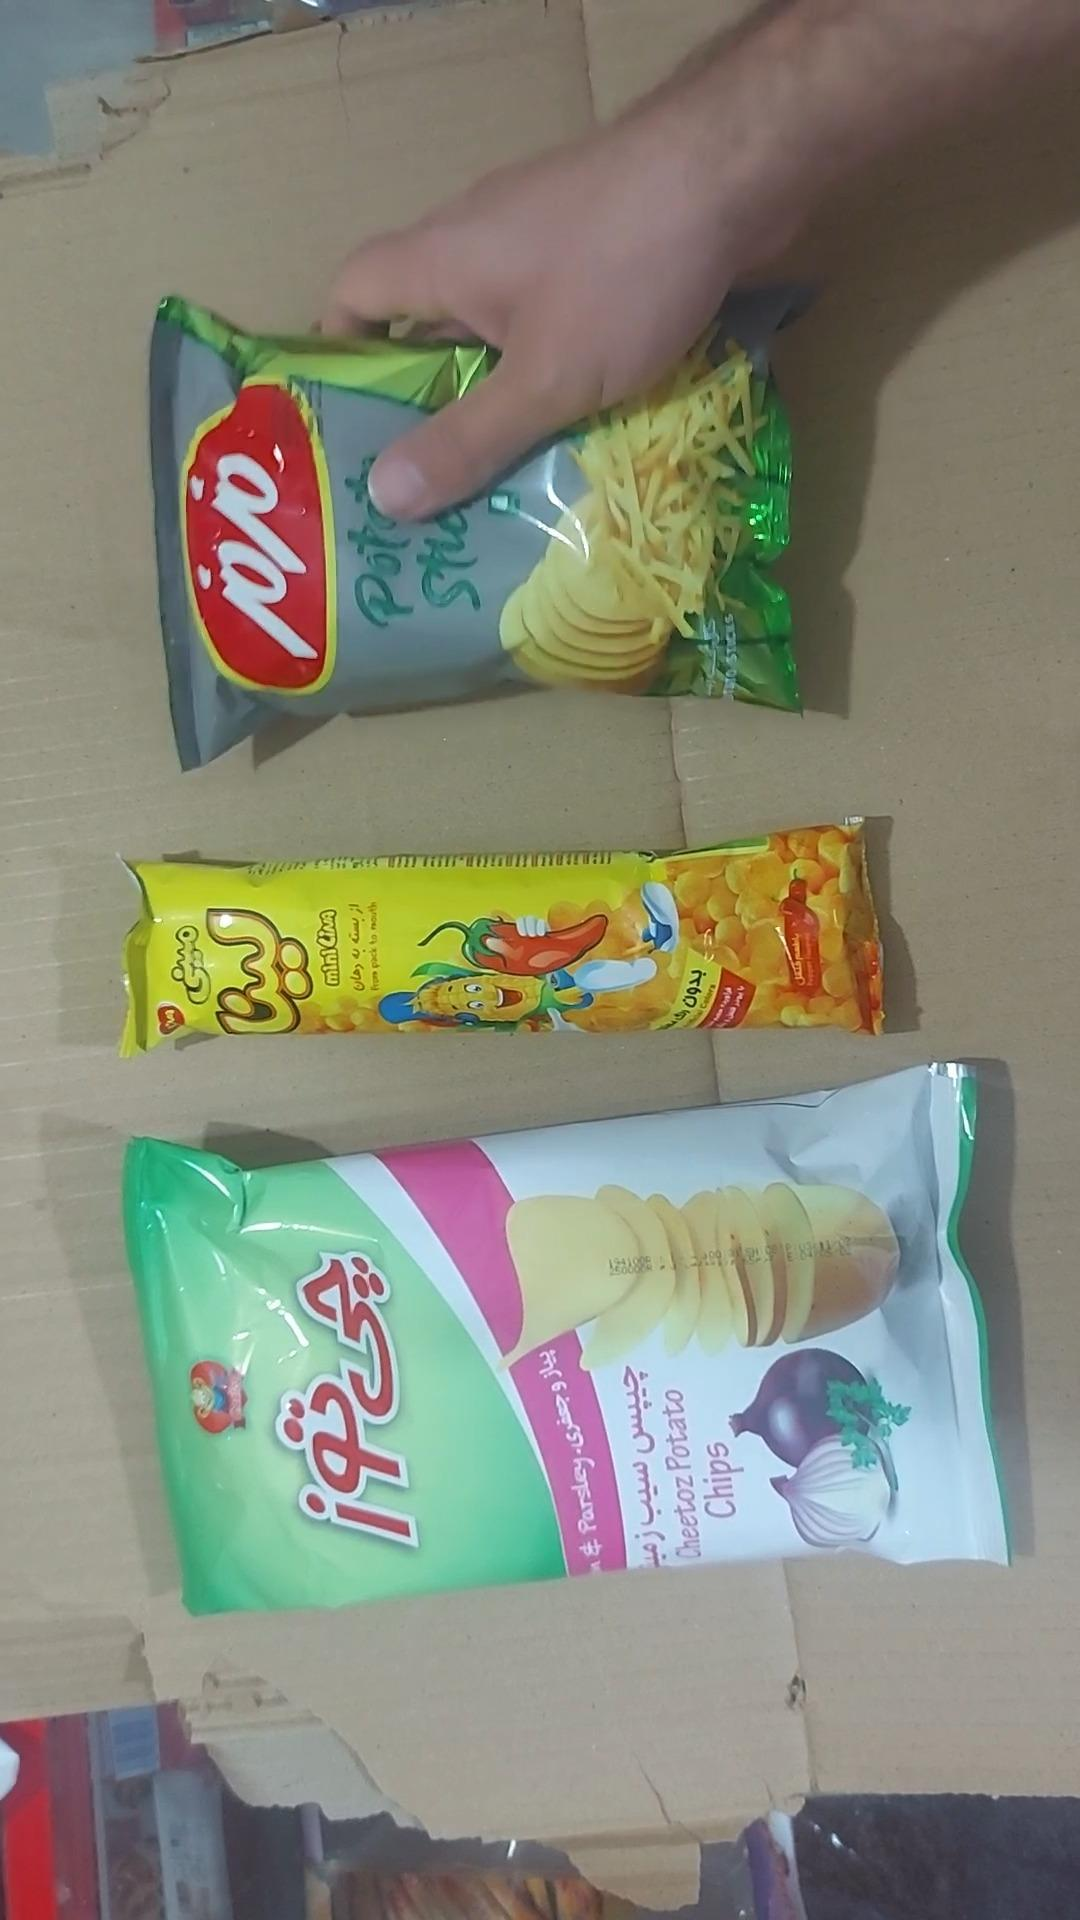Cheetoz onion and parsley chips: (124, 1064, 1011, 1614)
Maz Maz potato sticks: (150, 294, 799, 769)
Mini Lina: (121, 823, 884, 1055)
